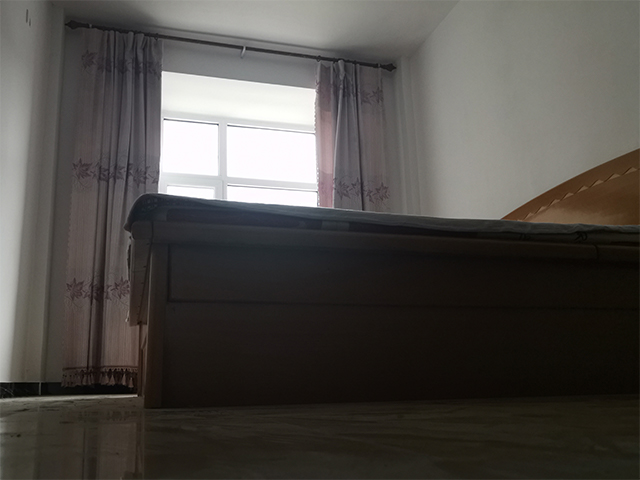bed: (122, 146, 640, 411)
curtain: (60, 27, 164, 391), (315, 60, 410, 208)
